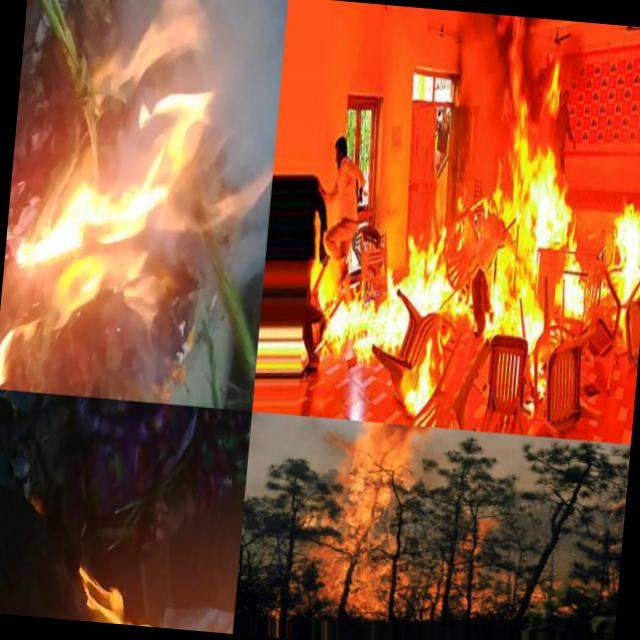fire: (318, 418, 430, 616), (27, 280, 128, 400), (130, 141, 198, 313), (120, 312, 233, 408), (314, 276, 402, 368), (508, 138, 574, 257), (398, 208, 461, 320), (488, 258, 548, 346), (606, 192, 640, 319), (559, 205, 595, 314), (400, 328, 440, 417)
smoke: (6, 15, 152, 288), (455, 11, 580, 56)
